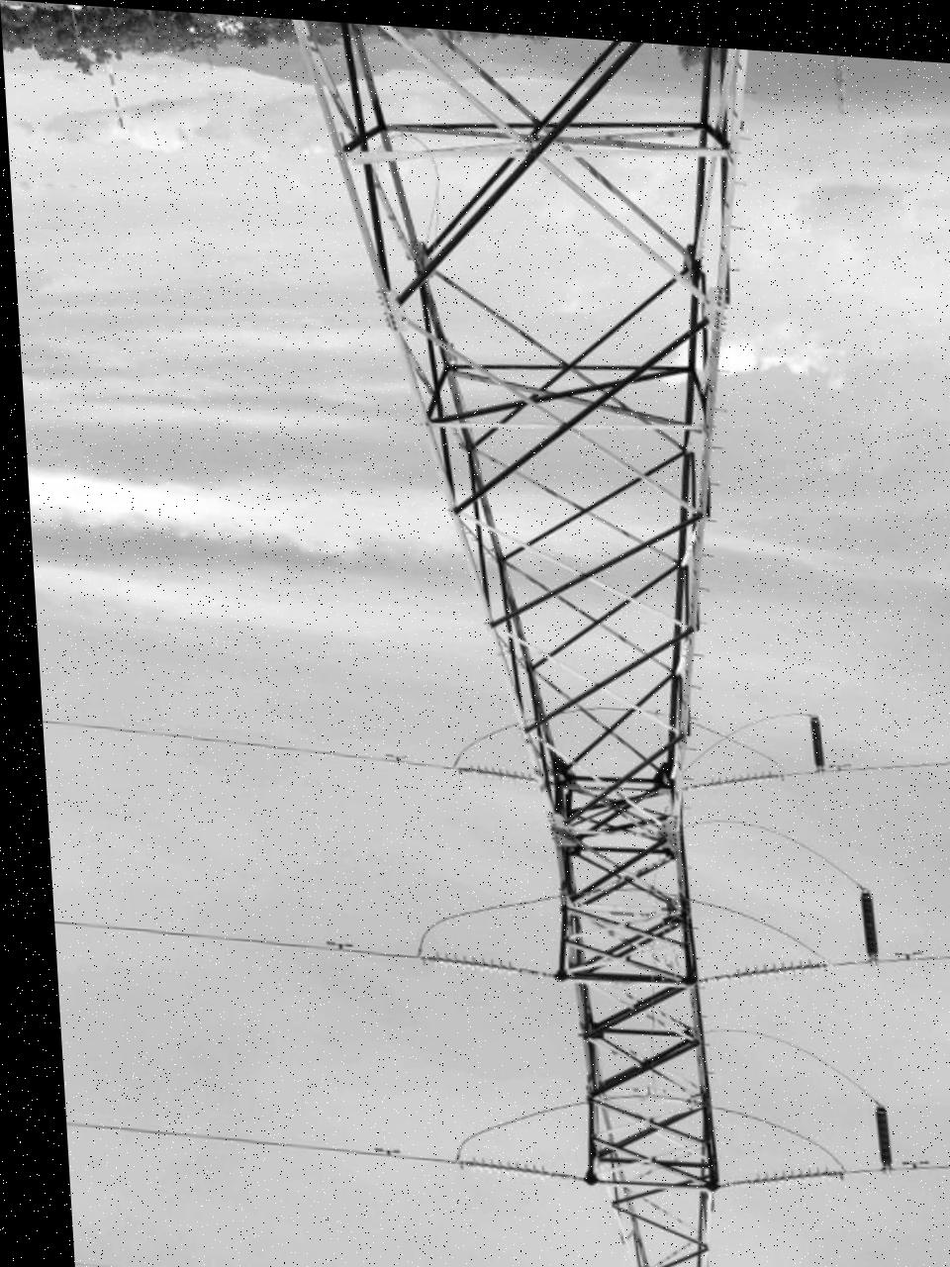tower: (246, 16, 768, 1267)
